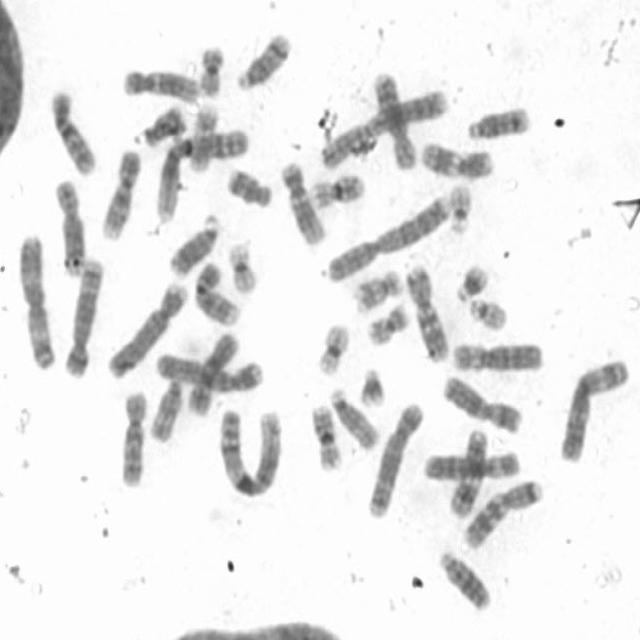A1: (152, 124, 251, 222), (214, 400, 286, 500)
A2: (323, 188, 454, 283), (317, 83, 450, 170)
A3: (554, 351, 632, 464), (14, 228, 57, 370)
B4: (104, 276, 191, 380), (153, 348, 265, 393)
B5: (362, 394, 425, 520), (60, 253, 106, 380)
C10: (44, 82, 101, 178), (115, 382, 150, 490)
C11: (446, 425, 491, 521), (419, 136, 496, 182)
C12: (278, 156, 328, 248), (118, 62, 201, 104)
C6: (419, 444, 521, 484), (448, 335, 546, 374)
C7: (459, 472, 545, 552), (400, 255, 452, 364)
C8: (369, 66, 419, 171), (50, 173, 88, 278)
C9: (97, 143, 144, 244), (190, 255, 244, 327)
D13: (434, 544, 494, 615), (163, 209, 220, 278)
D14: (231, 26, 294, 94), (463, 101, 533, 142)
D15: (327, 382, 382, 452), (146, 372, 186, 443)
E16: (307, 398, 344, 472), (306, 168, 366, 211)
E17: (348, 261, 405, 315), (183, 99, 220, 175)
E18: (135, 100, 187, 148), (222, 163, 274, 210)
F19: (312, 318, 352, 378), (223, 237, 260, 296)
F20: (363, 296, 412, 348), (194, 42, 226, 98)
G21: (452, 256, 492, 304), (354, 361, 390, 409)
G22: (443, 177, 475, 237), (465, 292, 509, 332)
X: (438, 369, 524, 435), (182, 324, 242, 418)
